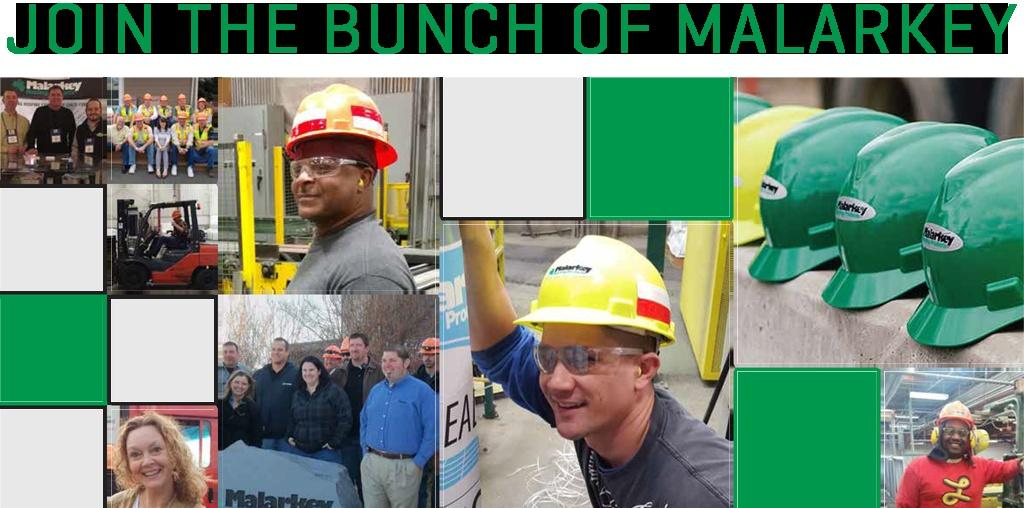helmet: (833, 121, 1001, 309), (759, 110, 896, 278), (933, 140, 1024, 347), (727, 100, 831, 262), (522, 237, 676, 342), (280, 84, 395, 162), (931, 396, 981, 427), (416, 328, 443, 359), (319, 341, 343, 367), (340, 337, 360, 358), (196, 111, 211, 126), (170, 210, 185, 224), (135, 112, 148, 126), (178, 91, 189, 107), (144, 93, 156, 105), (178, 112, 190, 123), (126, 96, 136, 106), (197, 99, 211, 106), (161, 97, 171, 106)
